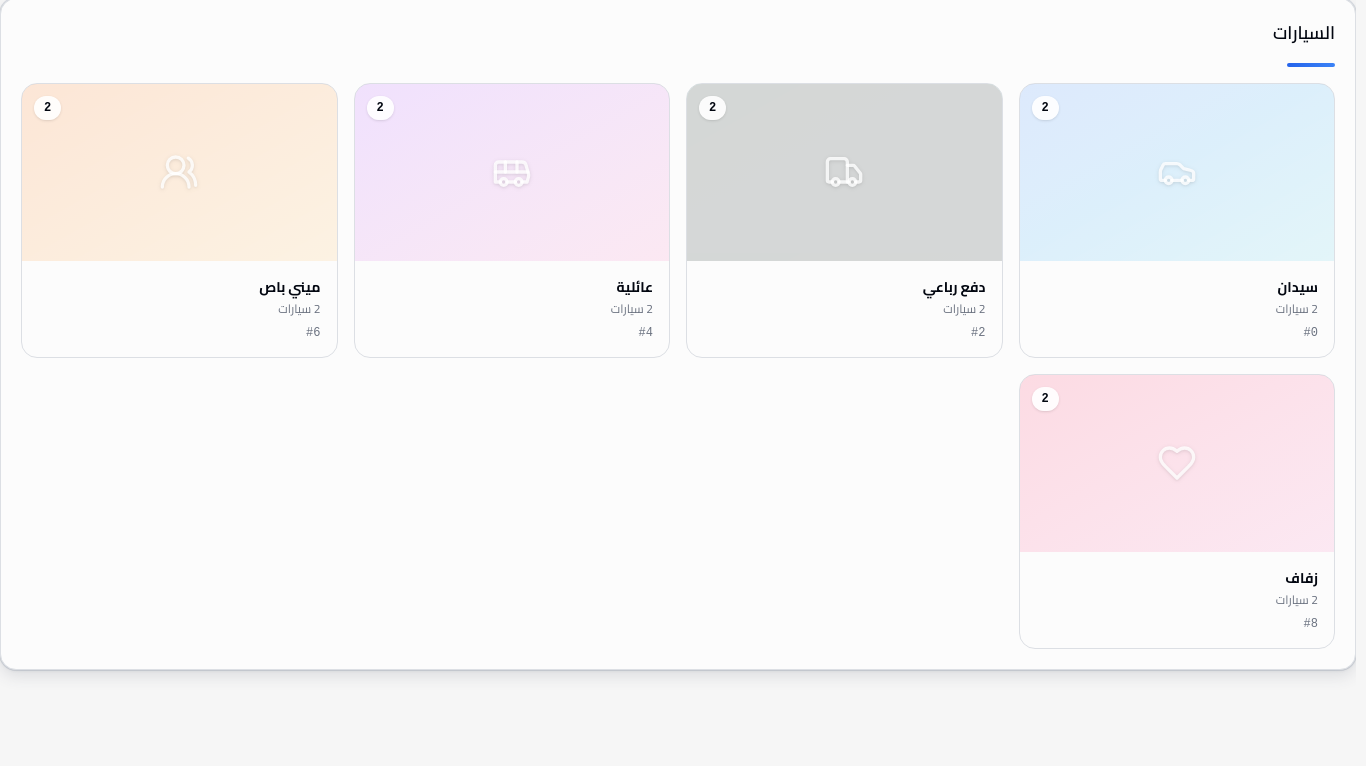
CarAdmin fleet big-categories contract › click category-card-suv drills down with filtered list and reorder controls
Expected: the button with test id "category-card-sedan" is shown, [1018,83,1335,358]
Click the button with test id "category-card-suv".
click(844, 220)  # box [686,83,1002,358]
(page scrolled)
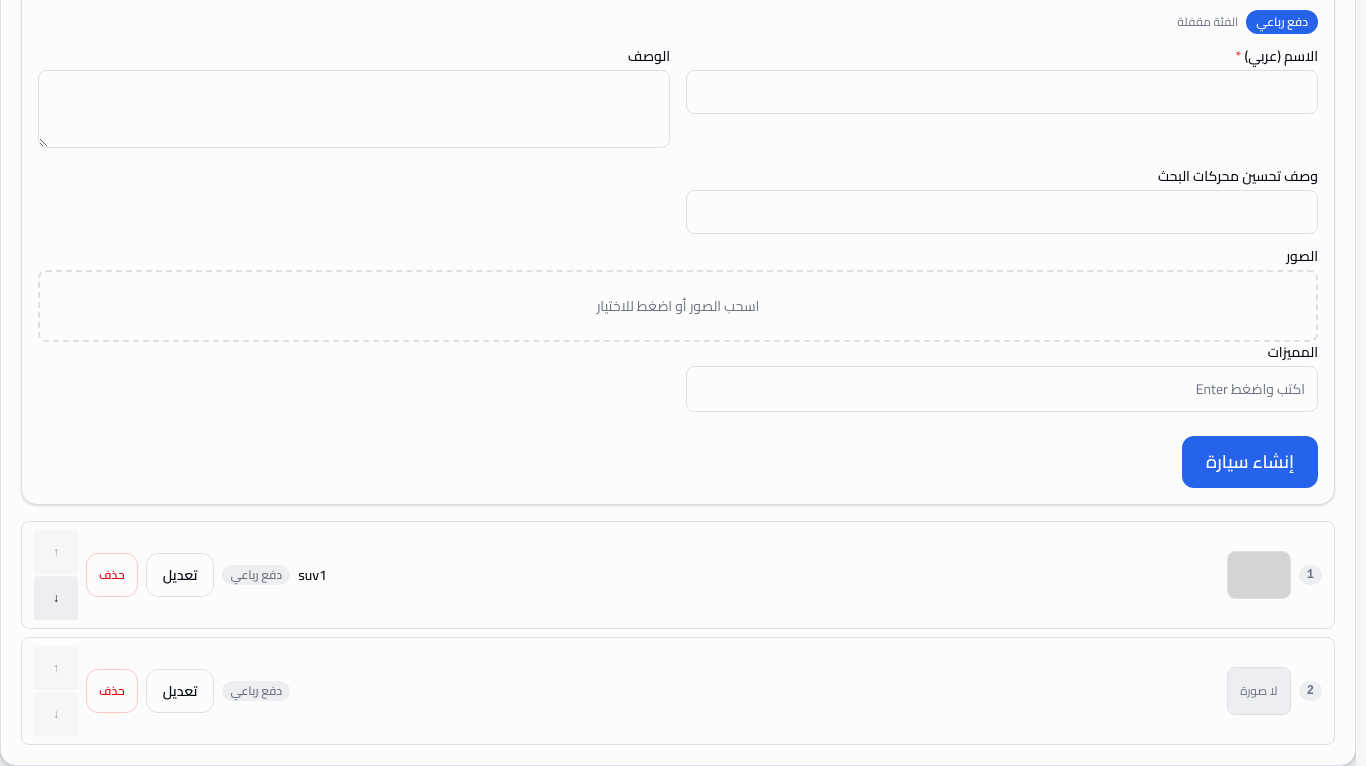
Expected: the text "2" is shown, [1299,681,1322,701]
Expected: the element with test id "category-grid" is gone
Expected: the text "1" is shown, [1299,565,1322,585]
